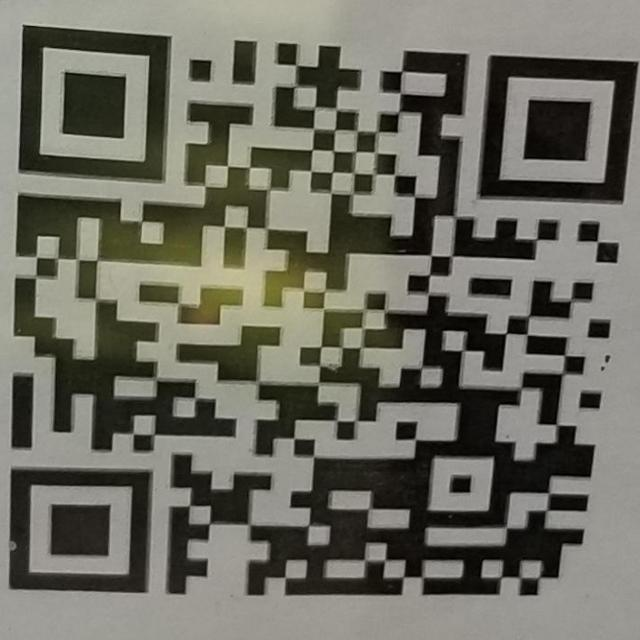QR_CODE: (11, 21, 640, 602)
